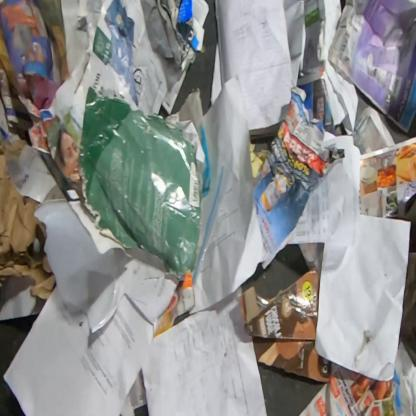cardboard: (78, 85, 203, 281), (240, 266, 332, 384), (0, 132, 57, 300), (153, 274, 196, 338), (175, 0, 210, 53), (250, 142, 270, 178)
rigid_plastic: (34, 198, 121, 336)
soft_plastic: (193, 122, 230, 284)
